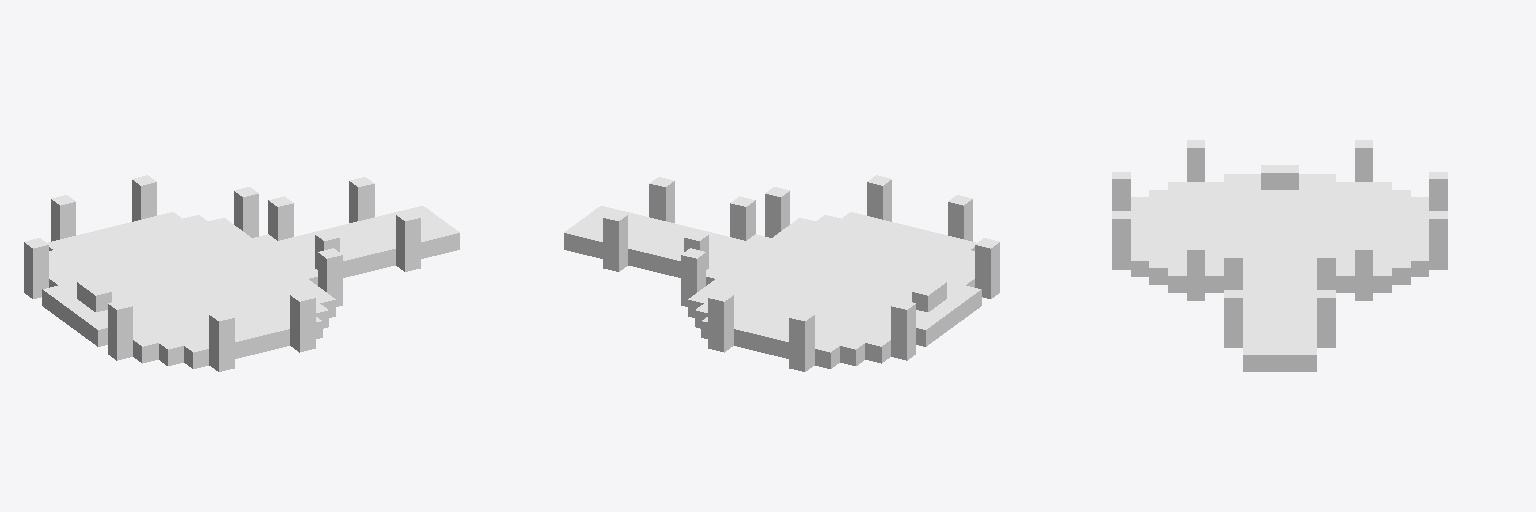
File: end2.obj
3 renders of one model, left to right at view 1: azimuth 30°, elevation 25°; view 2: azimuth 150°, elevation 25°; view 3: azimuth 270°, elevation 25°, orthographic.
Visible parts, largest first — view 1: object 1; view 2: object 1; view 3: object 1.
Part boxes in pixels (x1,y1,x2,y2): object 1: (24,175,459,371); object 1: (564,175,999,371); object 1: (1112,140,1447,371).
Size of the model in its own units: 2.3 by 0.3 by 1.8.